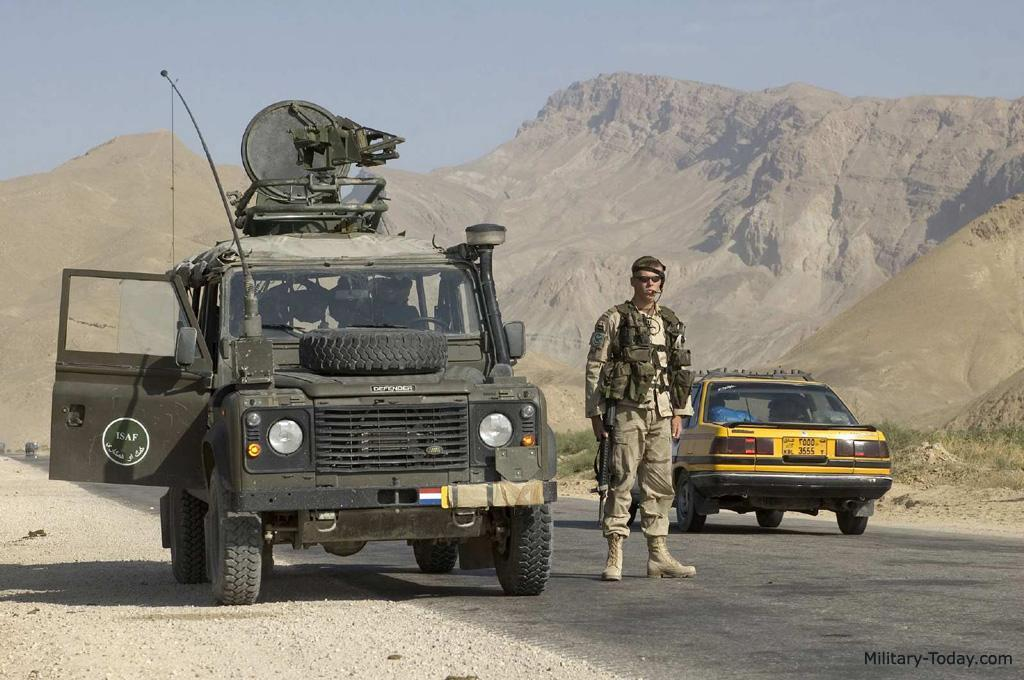armored_car: (48, 68, 556, 605)
